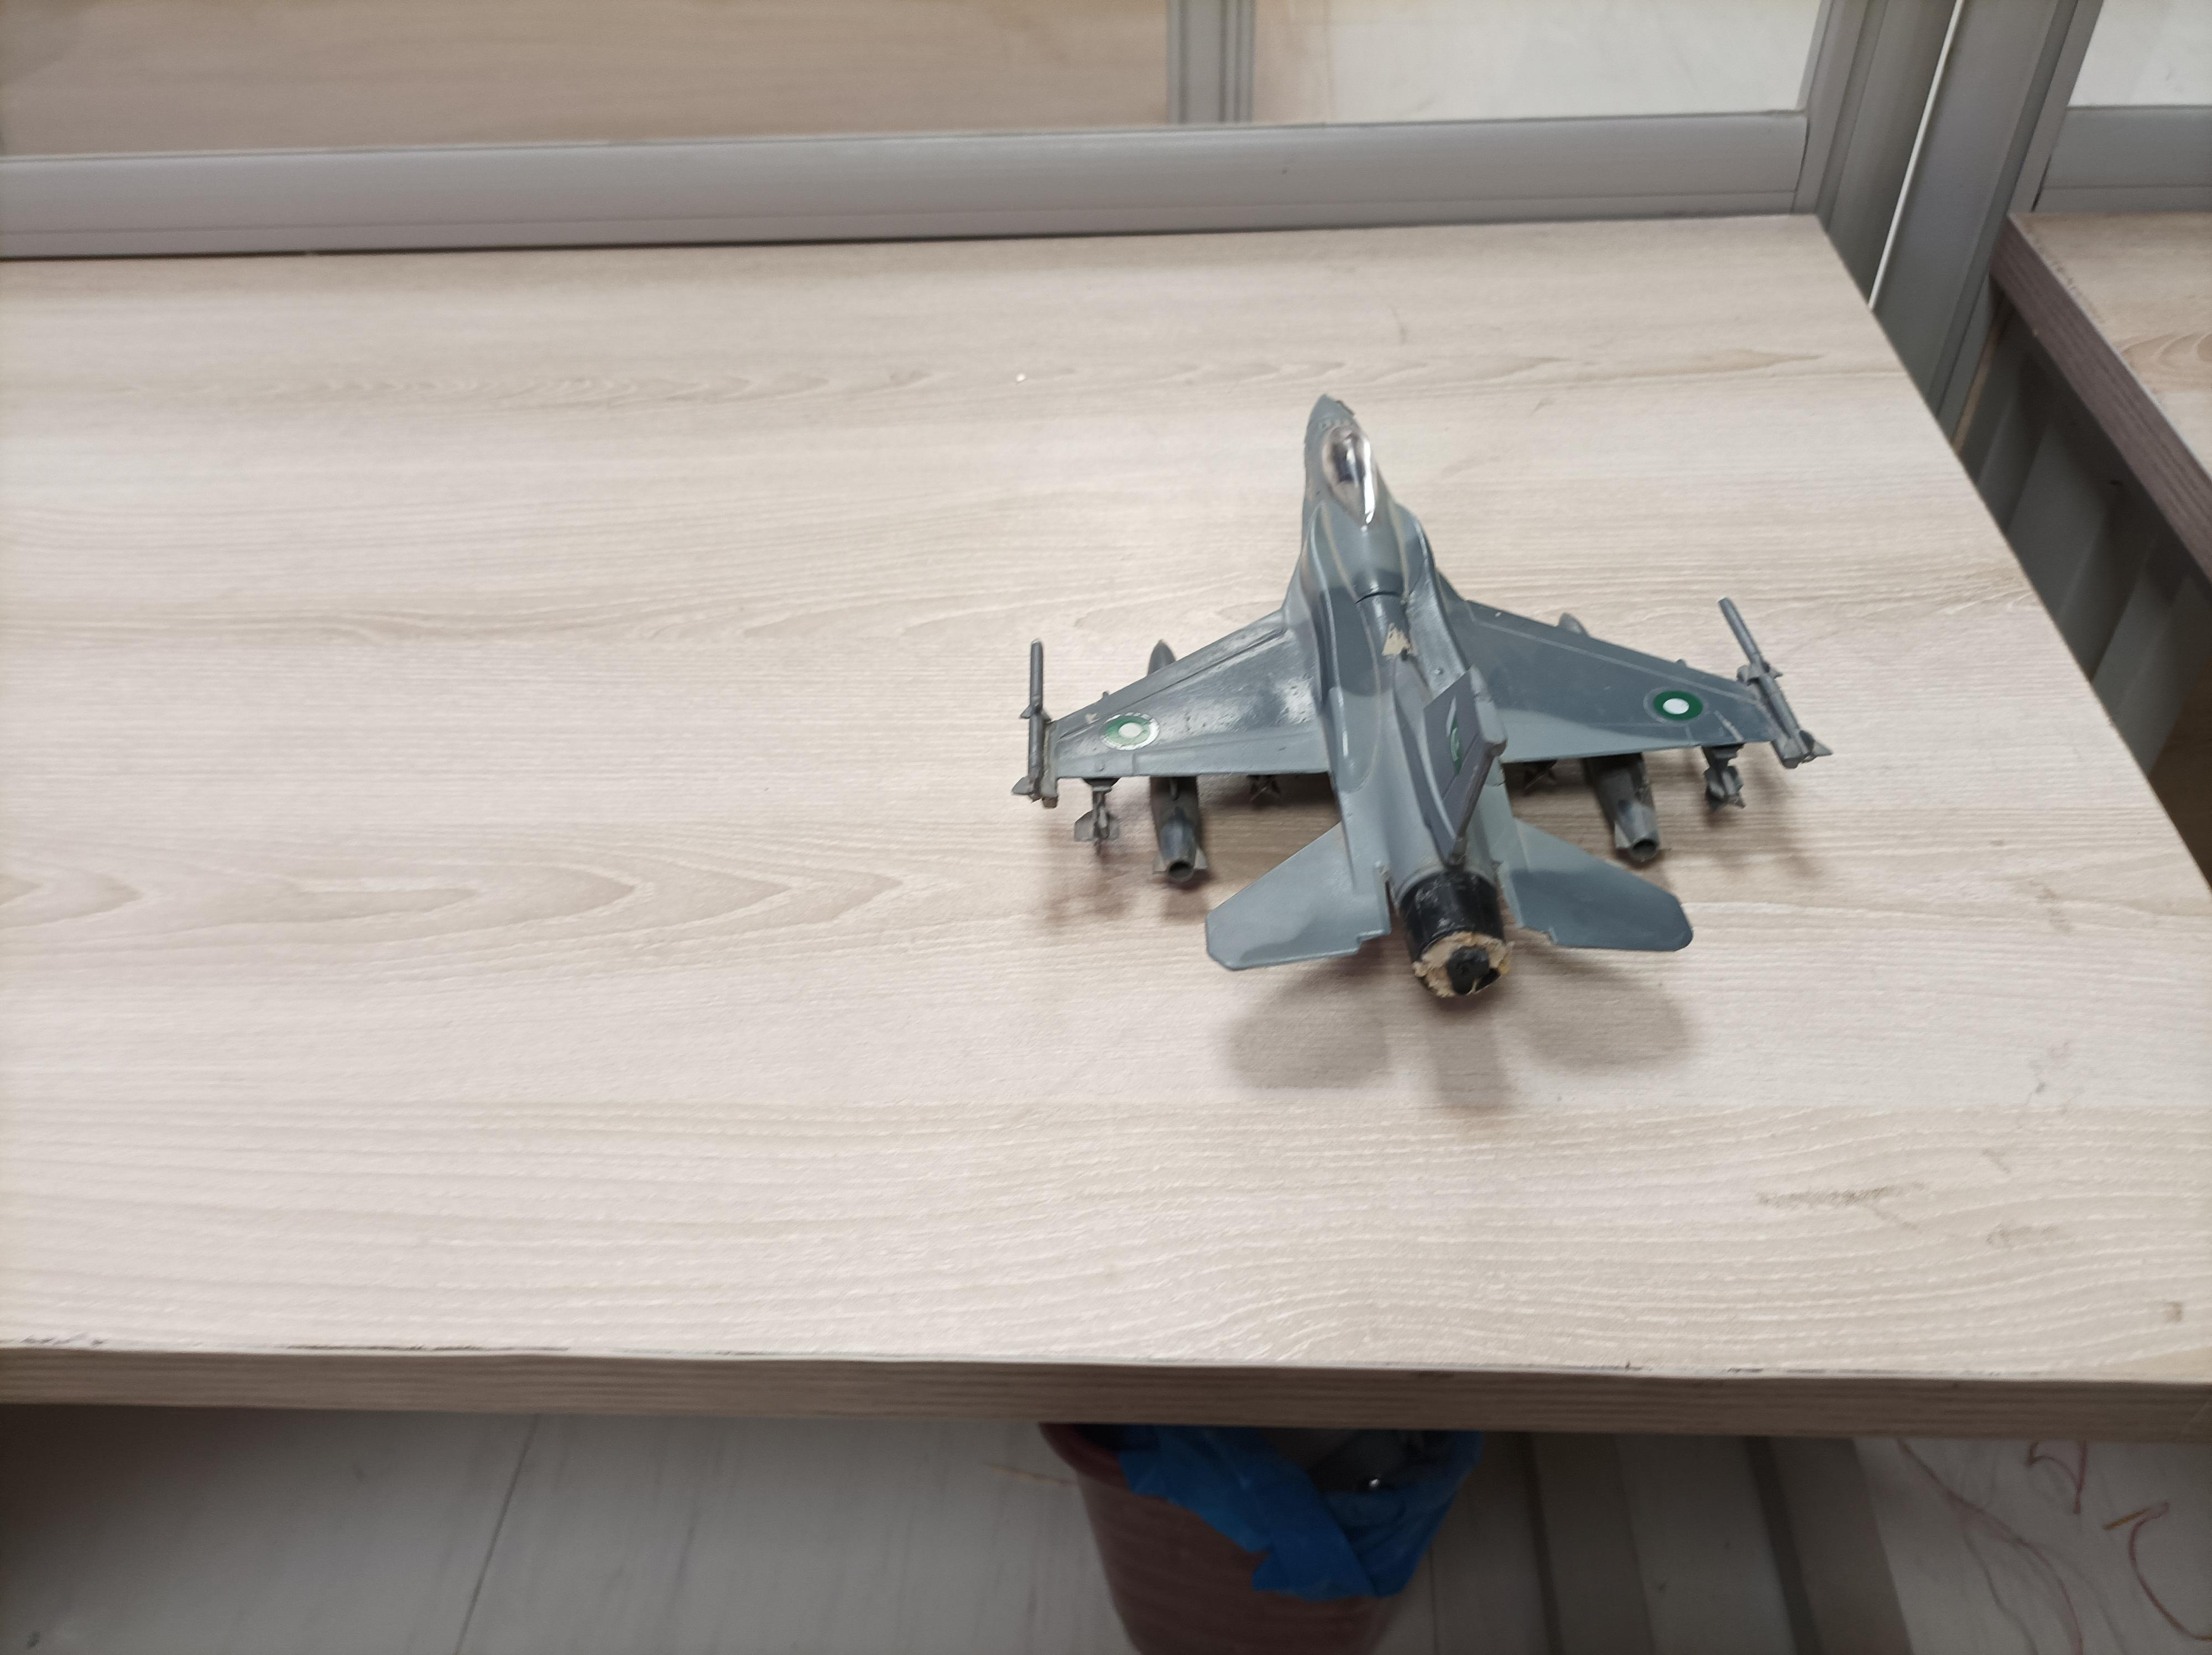Airplane: (1004, 365, 1847, 1040)
